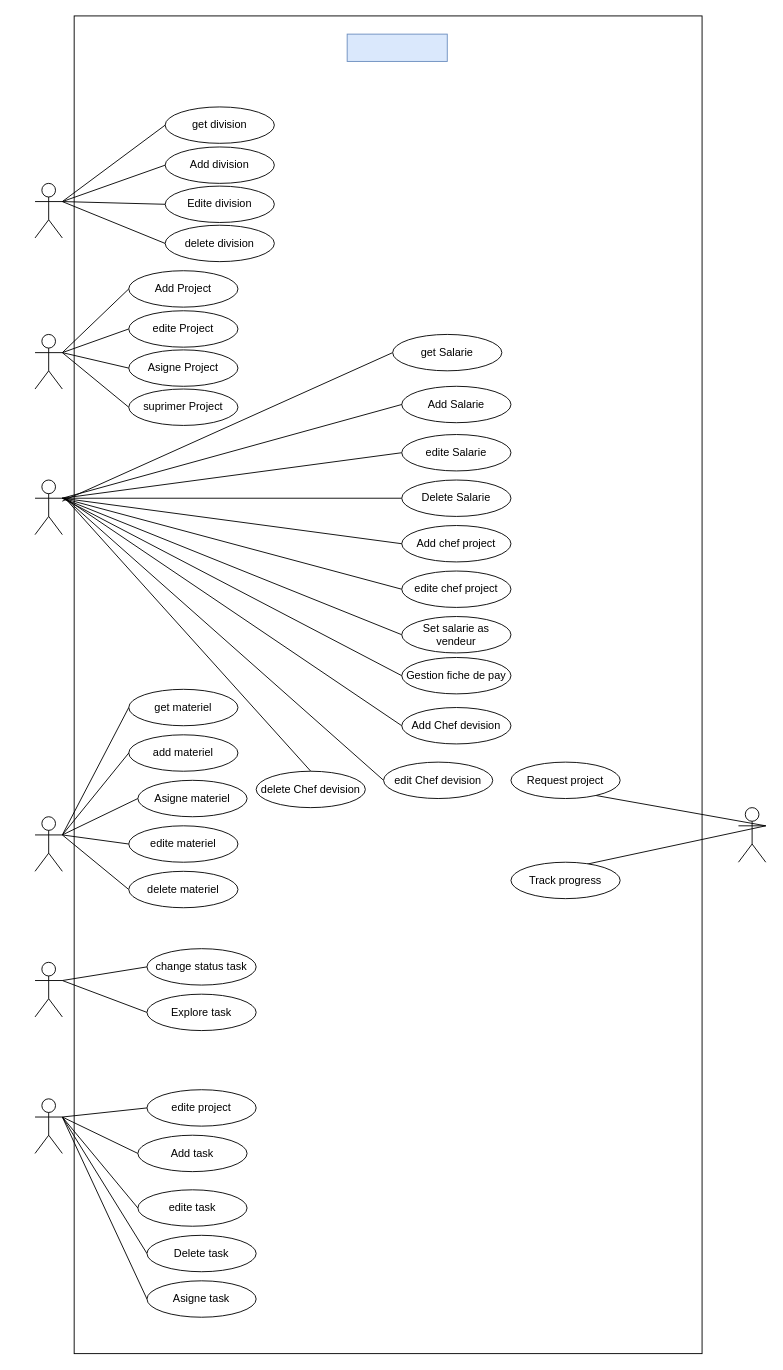
The diagram is 783 pixels wide and 1370 high, and some of its shapes have lost their labels. The centre of each missing label's shape, as x and y in pixels:
Admin: [48,210]
Chef devision: [48,361]
Chef project: [48,1125]
Client: [752,834]
Gestion APP: [396,47]
RH: [48,507]
Salariee: [48,989]
super viseur: [48,843]
